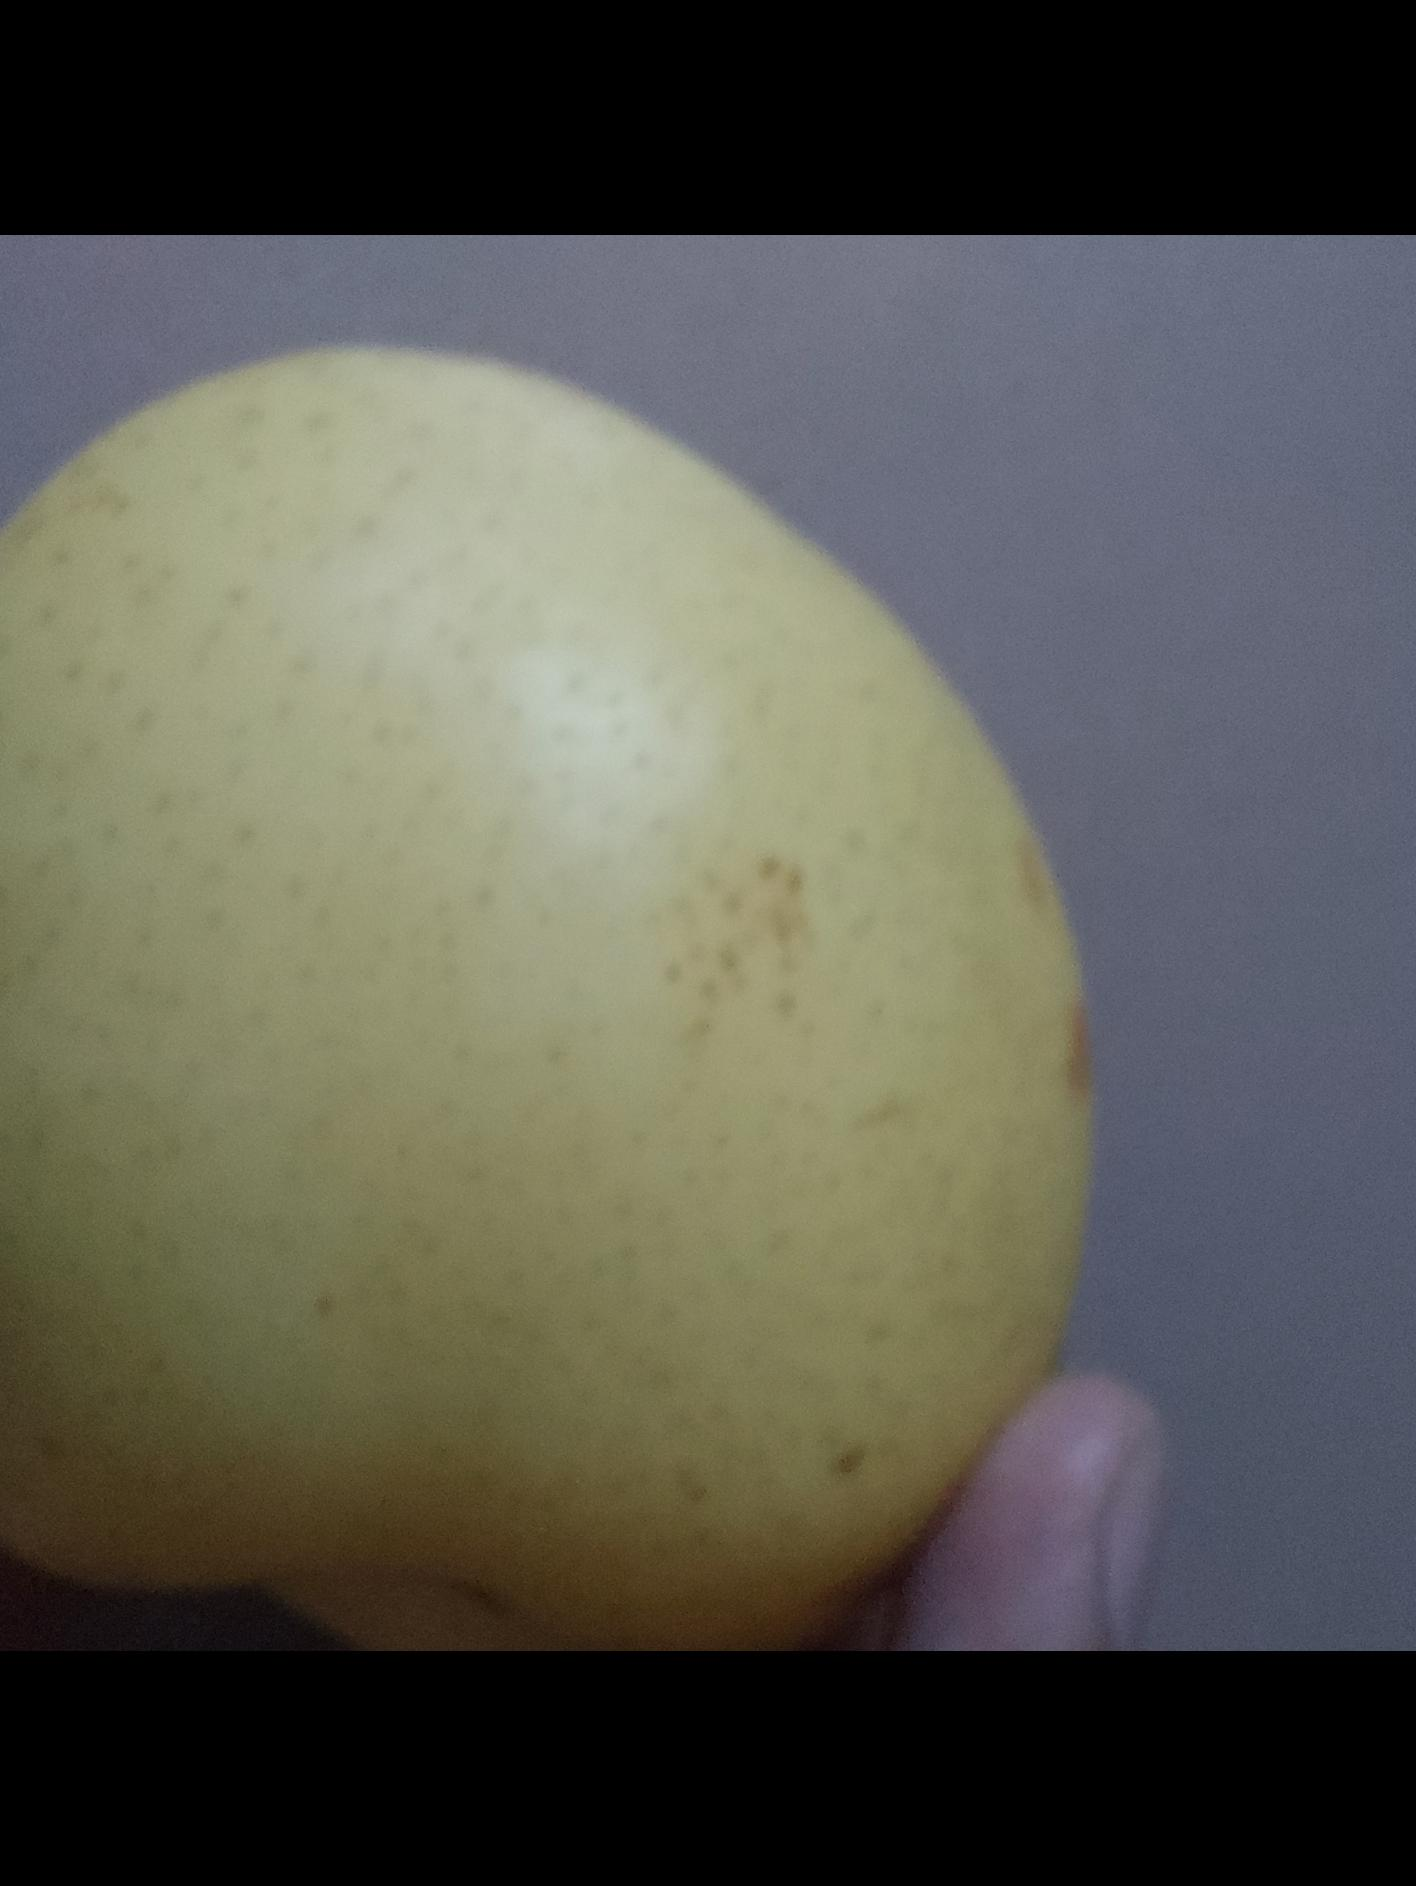Good Pear: (0, 297, 1005, 1651)
